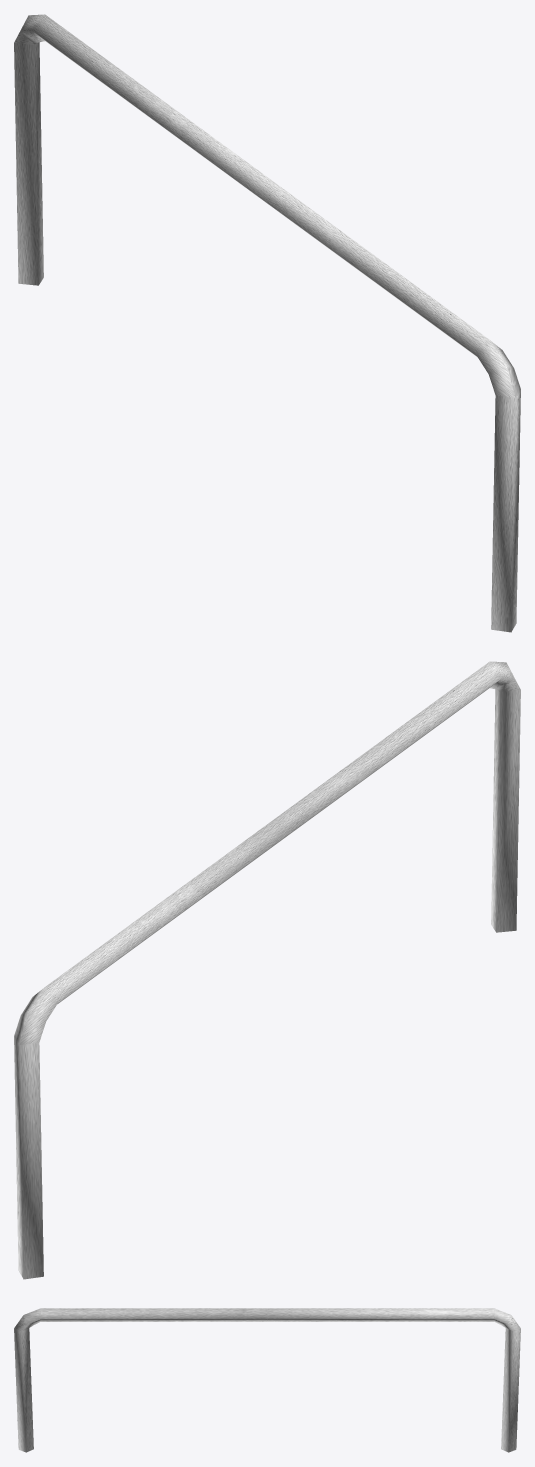
Rendered from pipe.fbx.
3 views of the same model, one above another, from view 1: azimuth 30°, elevation 25°; view 2: azimuth 150°, elevation 25°; view 3: azimuth 270°, elevation 25° (orthographic). The views are drawn at different scales.
Parts seen in each view (by area): view 1: Plane.010; view 2: Plane.010; view 3: Plane.010.
Part boxes in pixels (x1=…): Plane.010: x1=14, y1=14, x2=520, y2=632; Plane.010: x1=14, y1=661, x2=520, y2=1279; Plane.010: x1=14, y1=1308, x2=520, y2=1452.
Size of the model in its own units: 41.18 by 428 by 1392.
Materials: 1 (1 with a texture image).
